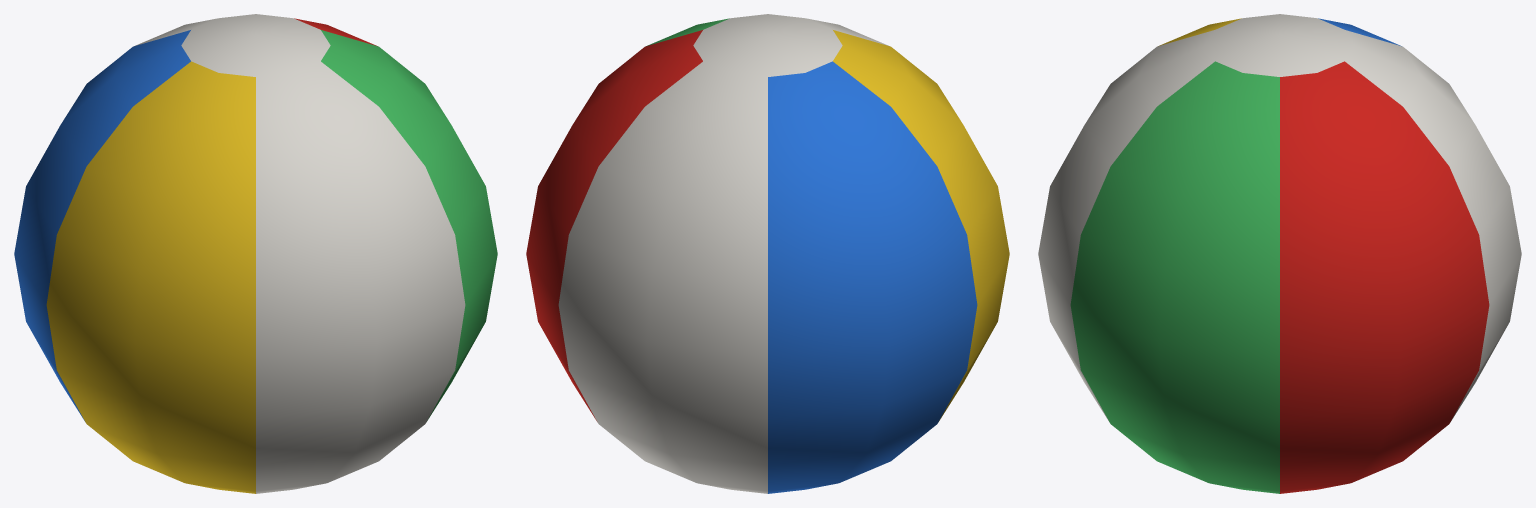
Rendered from float_ball.glb.
The picture shows the model from 3 angles, left to right: view 1: azimuth 30°, elevation 25°; view 2: azimuth 150°, elevation 25°; view 3: azimuth 270°, elevation 25°; orthographic projection.
Parts seen in each view (by area): view 1: FloatBall; view 2: FloatBall; view 3: FloatBall.
Part boxes in pixels (x1=…): FloatBall: x1=14, y1=14, x2=497, y2=493; FloatBall: x1=526, y1=14, x2=1009, y2=493; FloatBall: x1=1038, y1=14, x2=1521, y2=493.
Size of the model in its own units: 0.6 by 0.6 by 0.6.
